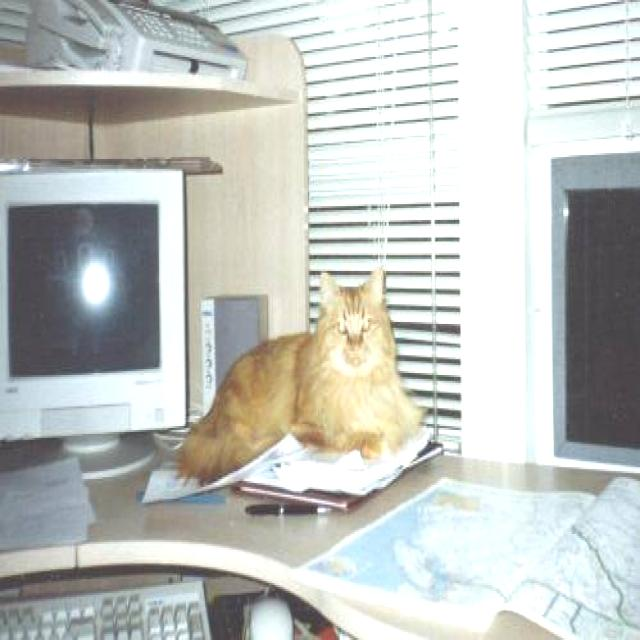Kucing: (224, 230, 435, 532)
